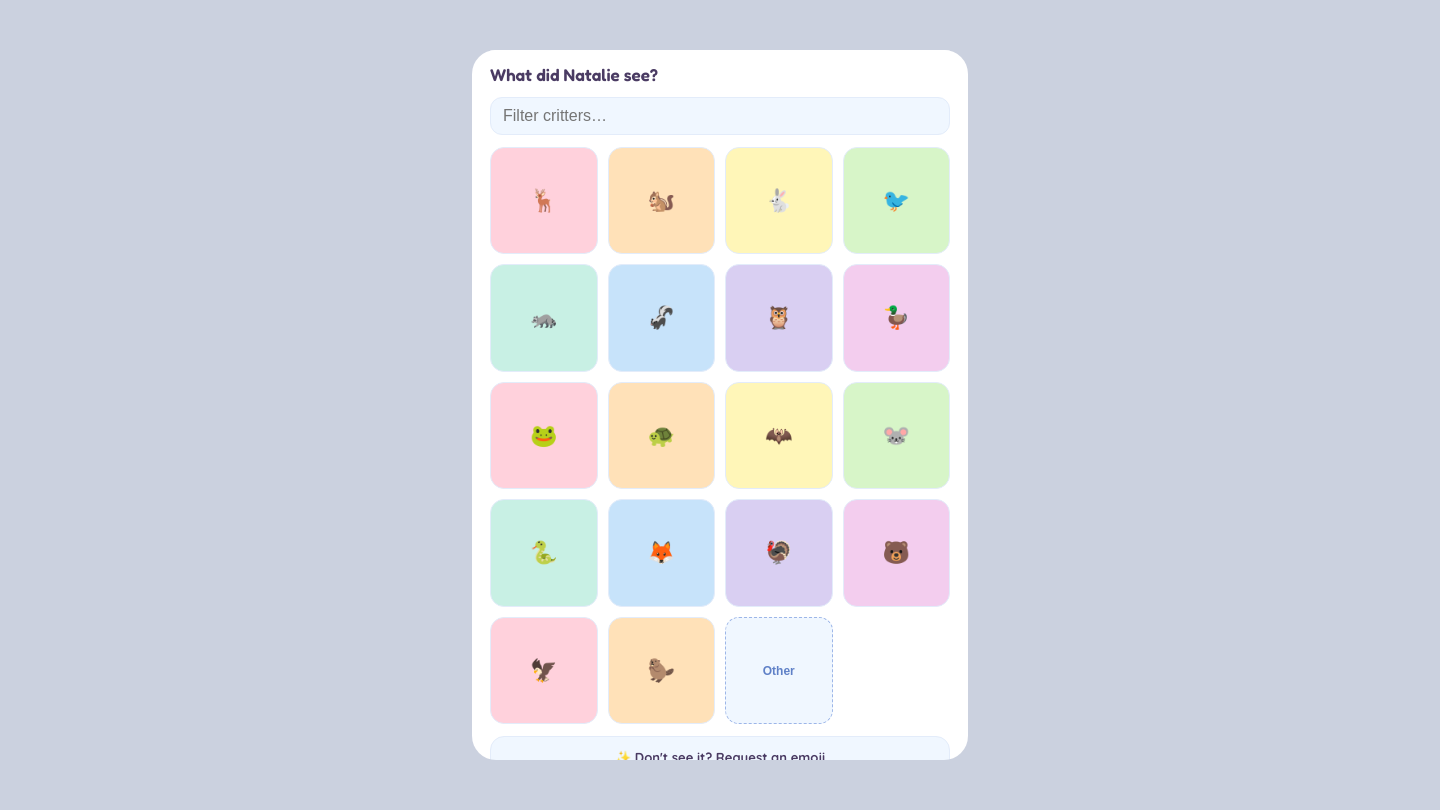
Test: LogSightingFlow › picking an extended emoji pre-fills its name
Click the button "Other" at [779, 671], box [725,617,832,724]
(page scrolled)
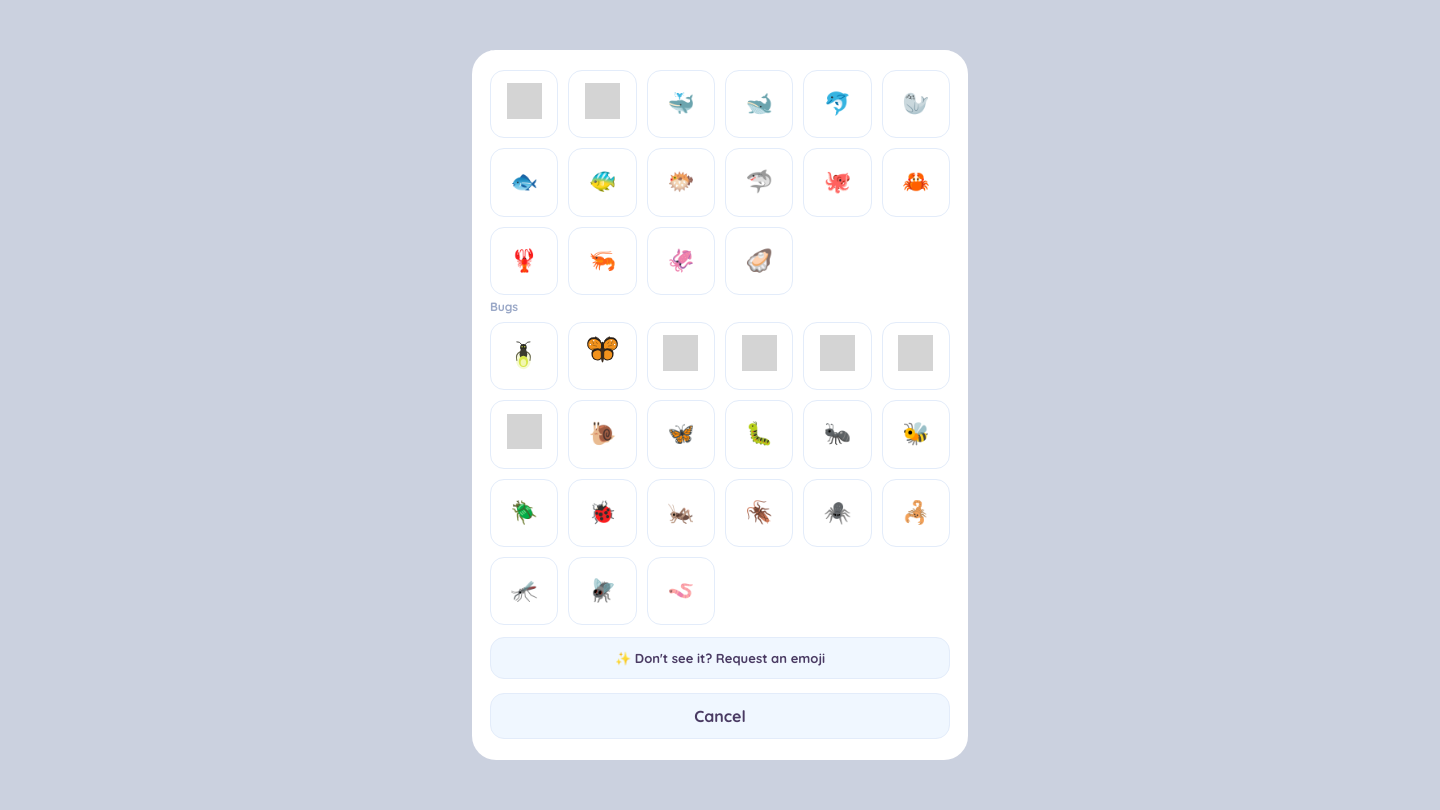
Click the button named "Bee" at [916, 434], box [882,400,950,468]
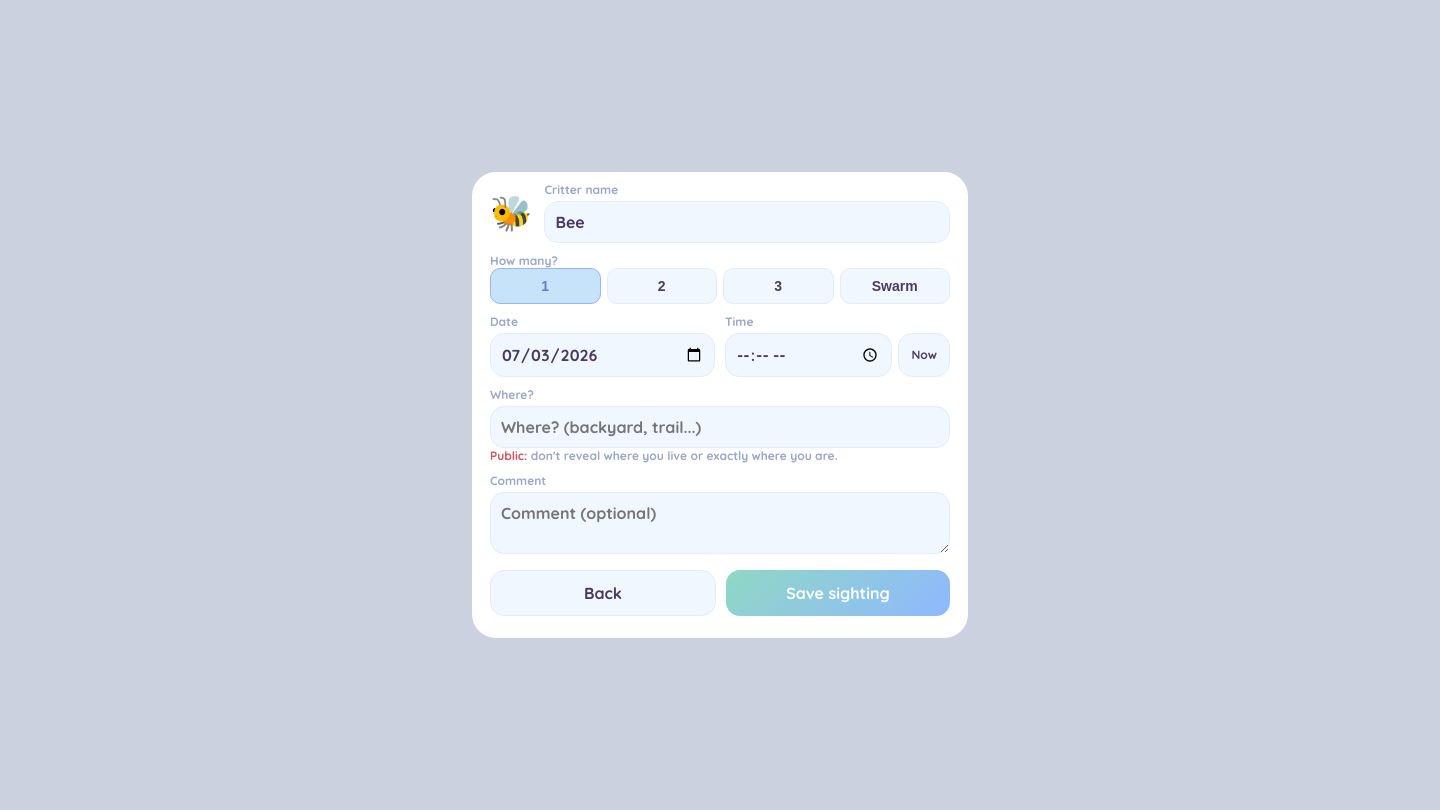
Now the field labelled "Critter name" holds "Bee", box [544,201,950,243]
